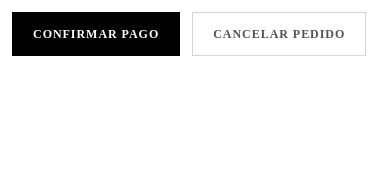
Scenario: OrderStatusActions › explains the NOT_FOUND failure
Click the button "Confirmar pago" at (96, 34), box top-left (12, 12), bottom-right (180, 56)
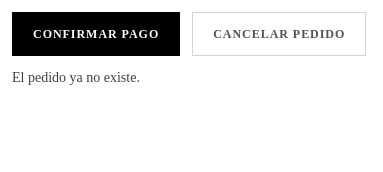
Now the message reads "El pedido ya no existe.", box top-left (12, 70), bottom-right (140, 85)
